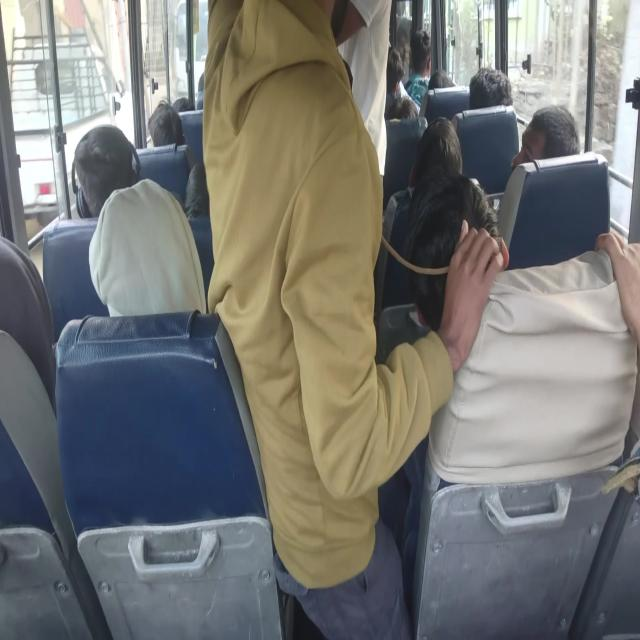person: (202, 0, 508, 638), (403, 170, 639, 491), (88, 177, 207, 317), (381, 116, 463, 309), (71, 123, 141, 219), (510, 104, 580, 170), (410, 115, 462, 186), (404, 28, 431, 111), (468, 66, 512, 109), (147, 100, 185, 146), (183, 160, 210, 220)
